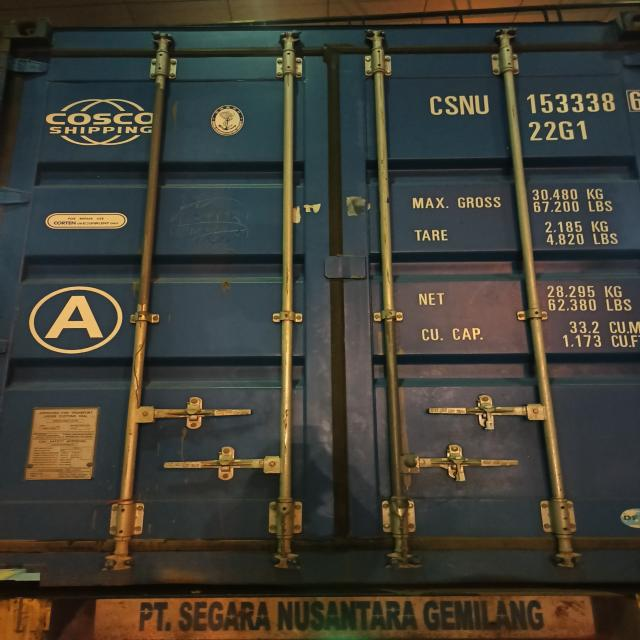seal: (451, 455, 467, 482)
